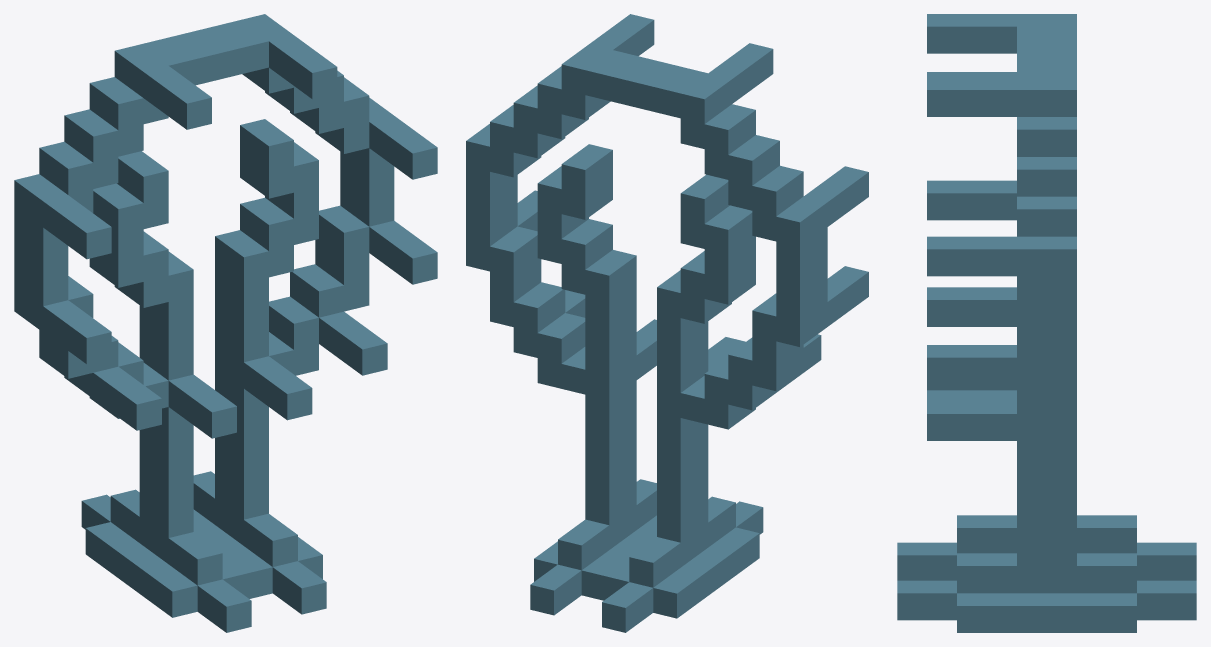
The model's file is portal.fbx.
3 views of the same model, side by side, from view 1: azimuth 30°, elevation 25°; view 2: azimuth 150°, elevation 25°; view 3: azimuth 270°, elevation 25° (orthographic). The views are drawn at different scales.
Parts seen in each view (by area): view 1: portal; view 2: portal; view 3: portal.
Part boxes in pixels (<box>): portal: <box>14,14,437,632</box>; portal: <box>466,14,868,632</box>; portal: <box>897,14,1196,632</box>.
Bounding box in the file's own units: 1400 × 2000 × 1000.
